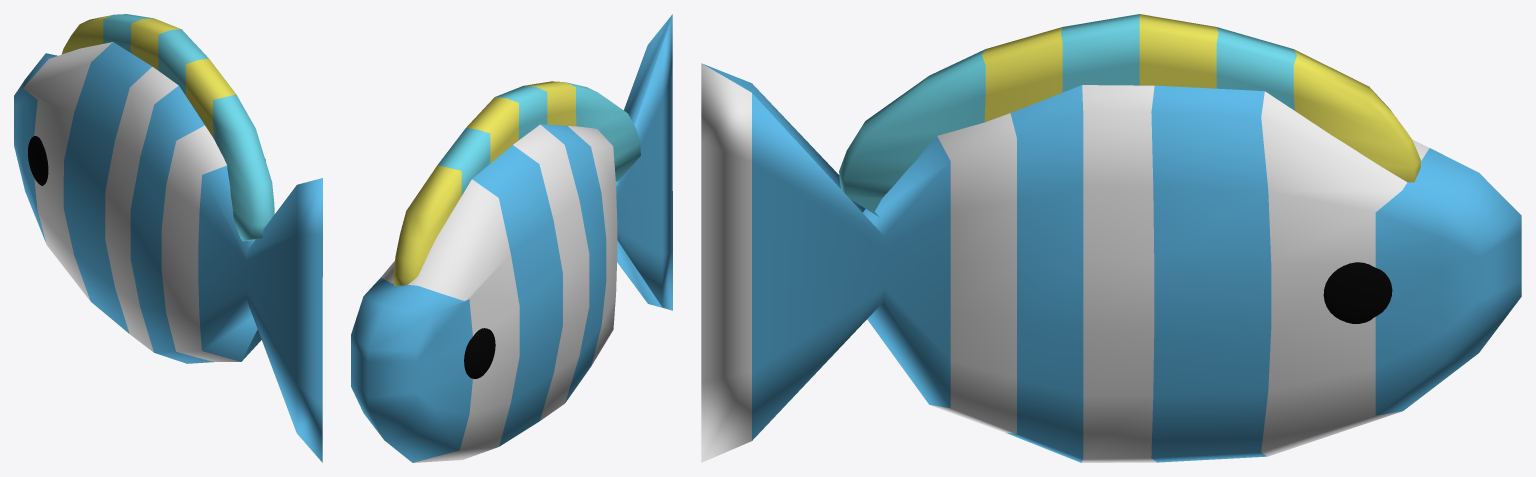
File: fish1.glb
The picture shows the model from 3 angles, left to right: view 1: azimuth 30°, elevation 25°; view 2: azimuth 150°, elevation 25°; view 3: azimuth 270°, elevation 25°; orthographic projection. The views are drawn at different scales.
Parts seen in each view (by area): view 1: Plane, Plane.001, Sphere.001; view 2: Plane, Plane.001, Sphere.001; view 3: Plane, Plane.001, Sphere.
Part boxes in pixels (left/top/right/bottom): Plane: left=14, top=42, right=322, bottom=462; Plane.001: left=61, top=14, right=274, bottom=241; Sphere.001: left=28, top=136, right=48, bottom=185; Plane: left=351, top=14, right=672, bottom=462; Plane.001: left=393, top=81, right=640, bottom=285; Sphere.001: left=464, top=328, right=495, bottom=378; Plane: left=701, top=63, right=1521, bottom=462; Plane.001: left=839, top=14, right=1420, bottom=216; Sphere: left=1323, top=262, right=1392, bottom=323.
Bounding box in the file's own units: 0.516 × 1.48 × 2.48.
